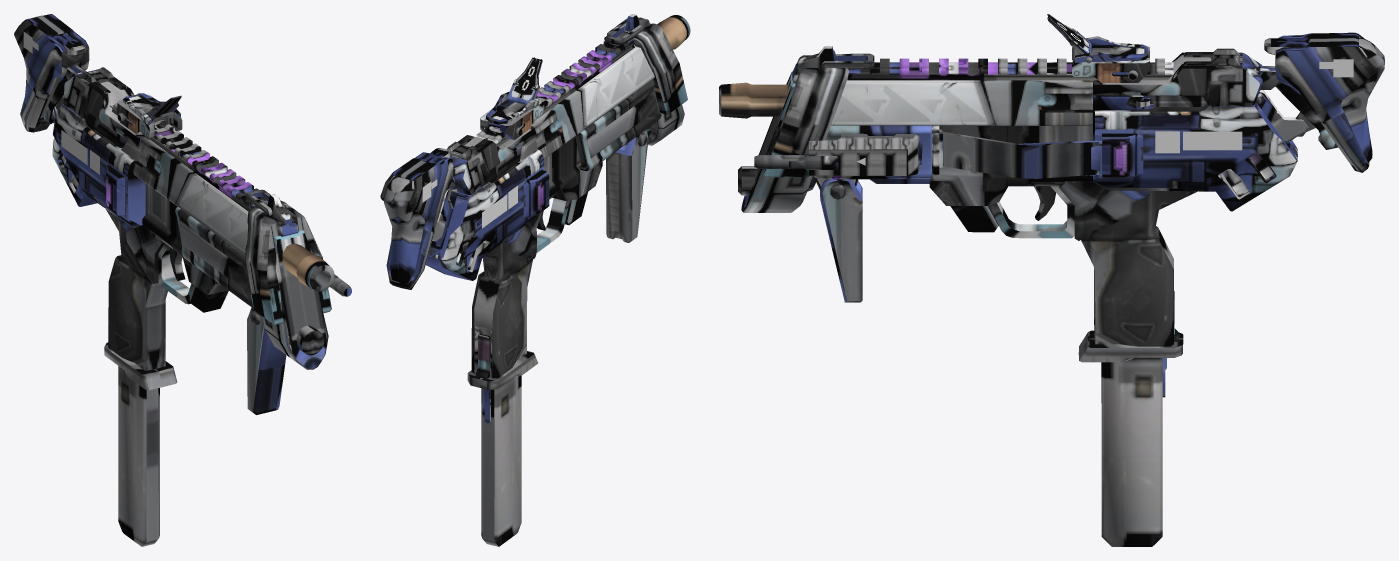
File: sombra_weapon.obj
The picture shows the model from 3 angles, left to right: view 1: azimuth 30°, elevation 25°; view 2: azimuth 150°, elevation 25°; view 3: azimuth 270°, elevation 25°; orthographic projection. The views are drawn at different scales.
Parts seen in each view (by area): view 1: Submesh_9.1.8444E824C35587F6.001, Submesh_8.1.7609BDE1C843F8C6.001; view 2: Submesh_9.1.8444E824C35587F6.001, Submesh_8.1.7609BDE1C843F8C6.001, Submesh_2.1.B51E5AFD27A23946.001; view 3: Submesh_9.1.8444E824C35587F6.001, Submesh_8.1.7609BDE1C843F8C6.001.
Boxes of the visible parts, left/top/right/bottom form: Submesh_9.1.8444E824C35587F6.001: left=14, top=14, right=351, bottom=546; Submesh_8.1.7609BDE1C843F8C6.001: left=23, top=32, right=99, bottom=174; Submesh_9.1.8444E824C35587F6.001: left=380, top=14, right=690, bottom=546; Submesh_8.1.7609BDE1C843F8C6.001: left=422, top=179, right=517, bottom=228; Submesh_2.1.B51E5AFD27A23946.001: left=513, top=59, right=540, bottom=98; Submesh_9.1.8444E824C35587F6.001: left=719, top=14, right=1384, bottom=546; Submesh_8.1.7609BDE1C843F8C6.001: left=857, top=59, right=1353, bottom=165.
Size of the model in its own units: 0.0601 by 0.3266 by 0.3738.
